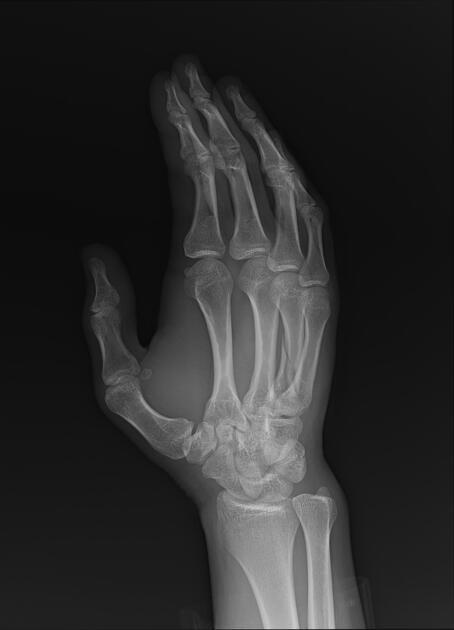fractured: (278, 336, 298, 393)
